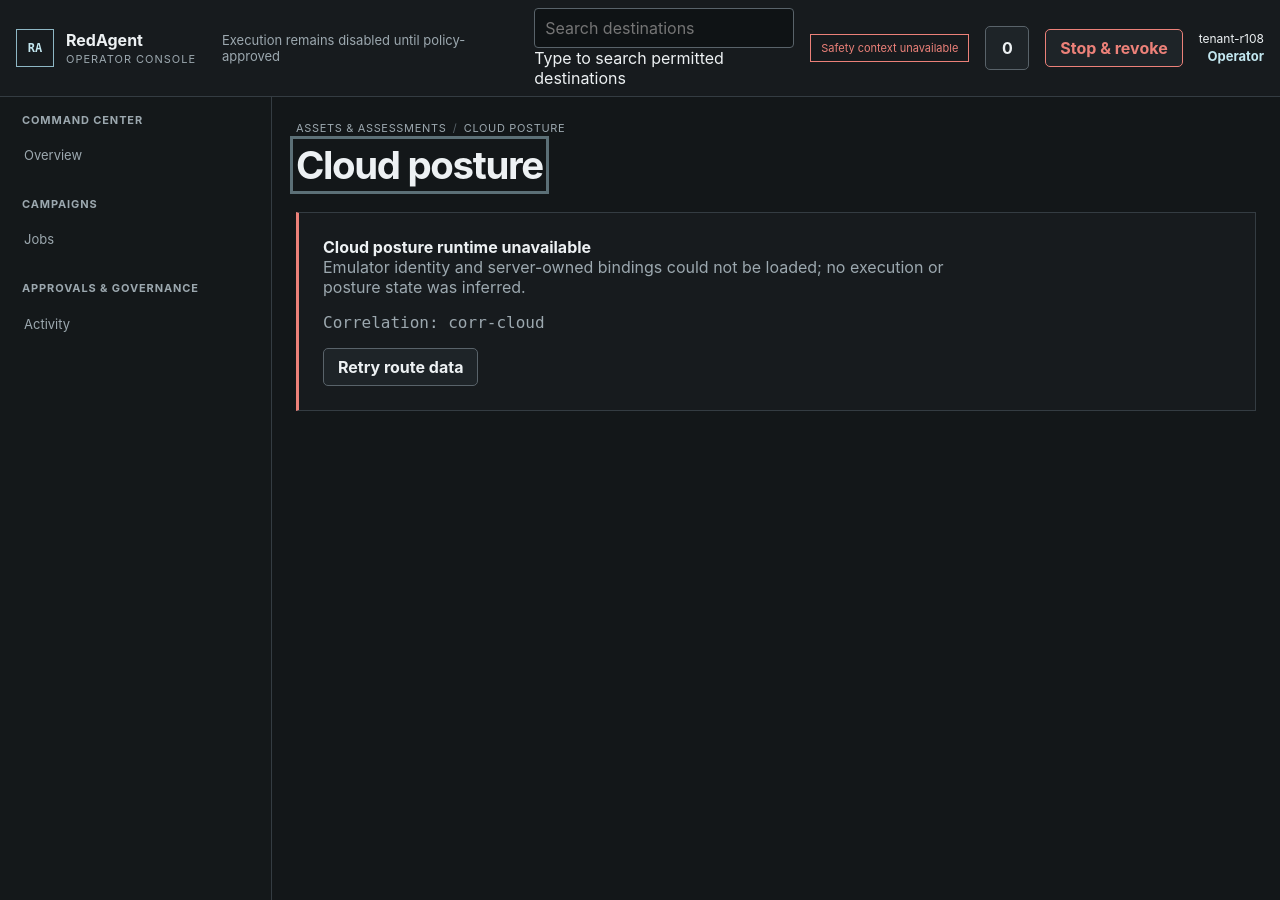
Test: projects a correlated cloud outage and retries without inferring posture state
Check: the message "Cloud posture runtime unavailable" is shown, box top-left (296, 212), bottom-right (1256, 411)
Check: the text "Correlation: corr-cloud" is shown, box top-left (323, 313), bottom-right (545, 332)
Click the button "Retry route data".
click(401, 367)  # box top-left (323, 348), bottom-right (478, 386)
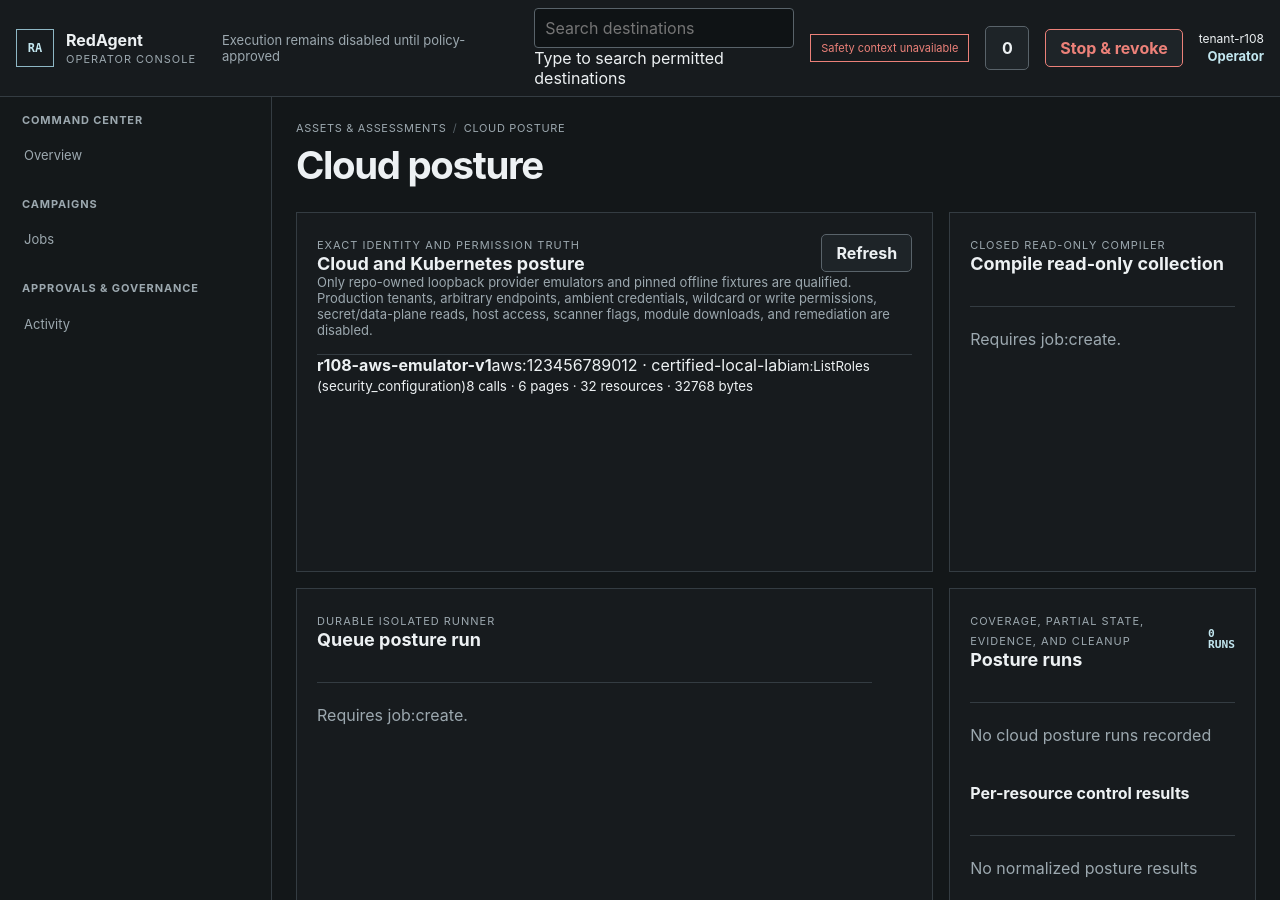
Check: the text "No normalized posture results" is shown, box top-left (970, 835), bottom-right (1235, 899)
